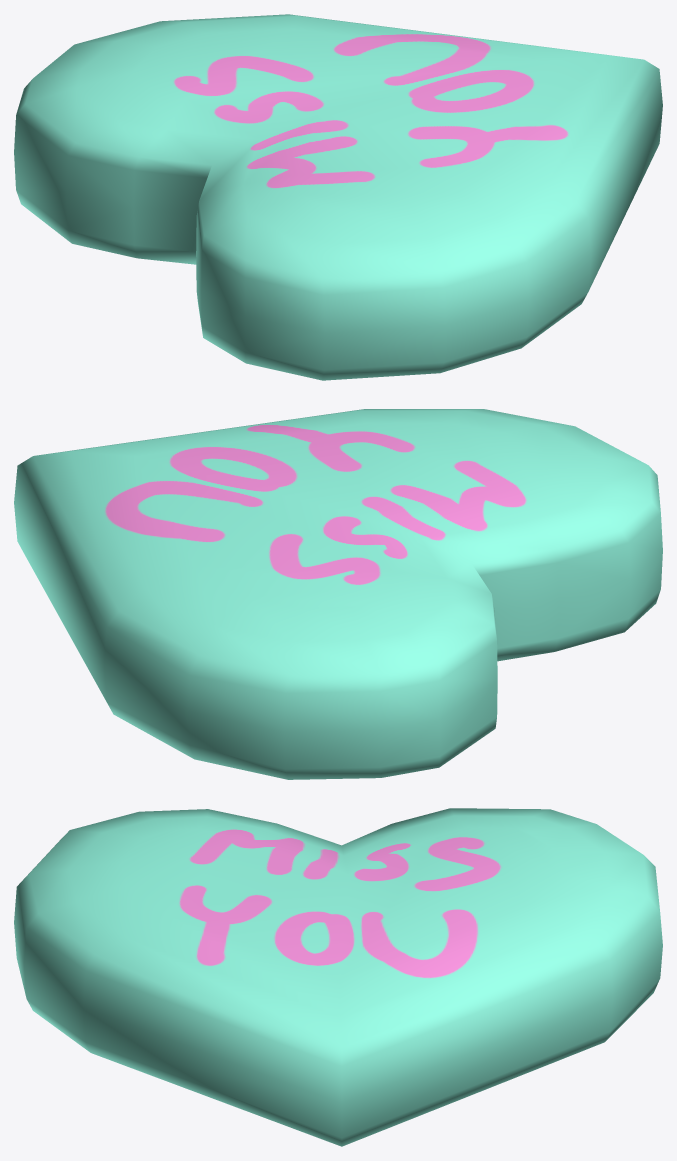
The model's file is candyheart2.fbx.
3 renders of one model, top to bottom at view 1: azimuth 30°, elevation 25°; view 2: azimuth 150°, elevation 25°; view 3: azimuth 270°, elevation 25°, orthographic. The views are drawn at different scales.
Visible parts, largest first — view 1: candyheart2; view 2: candyheart2; view 3: candyheart2.
Part boxes in pixels (left/top/right/bottom): candyheart2: left=14, top=14, right=662, bottom=380; candyheart2: left=14, top=409, right=662, bottom=779; candyheart2: left=14, top=808, right=662, bottom=1146.
Bounding box in the file's own units: 148 × 38.79 × 162.
